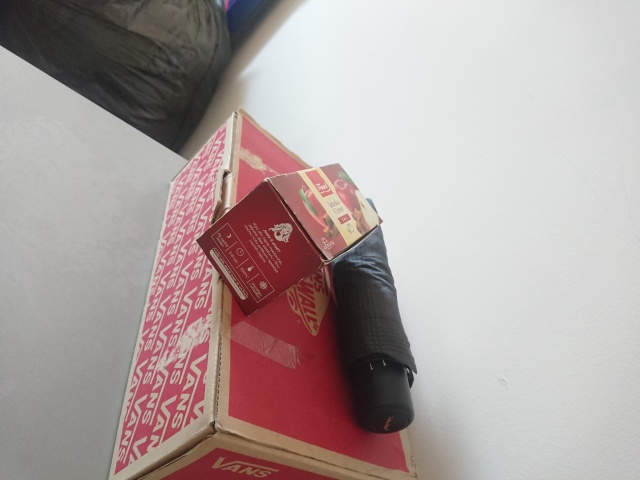Franck Apple Cinnamon Tea 60g: (194, 160, 384, 318)
